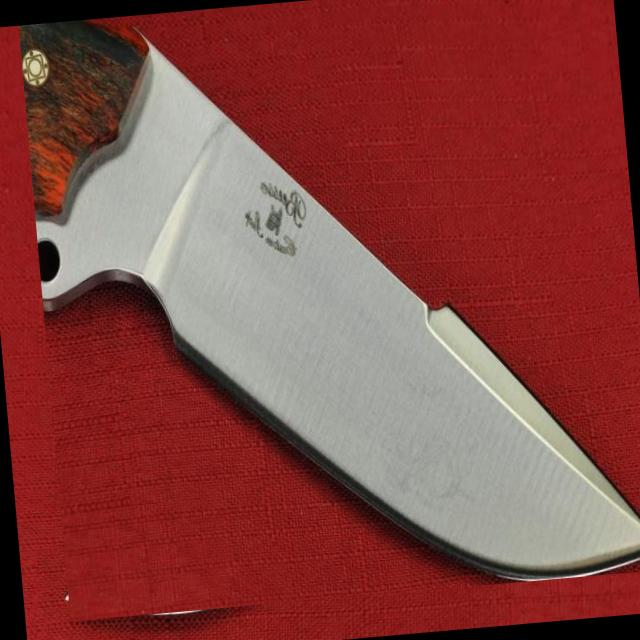Knife: (19, 20, 640, 580)
